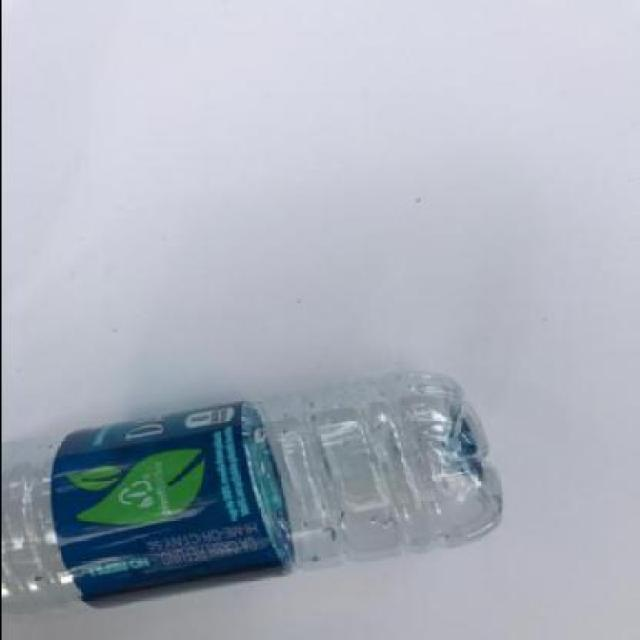PLASTIC: (2, 369, 503, 616), (52, 400, 294, 608)
